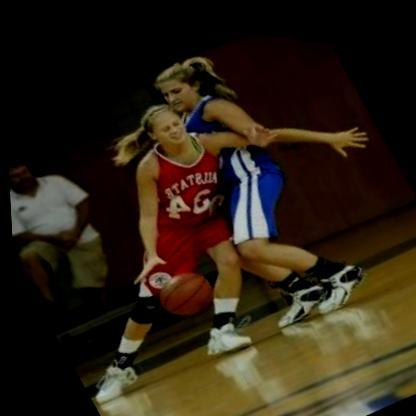basketball: (141, 249, 225, 331)
